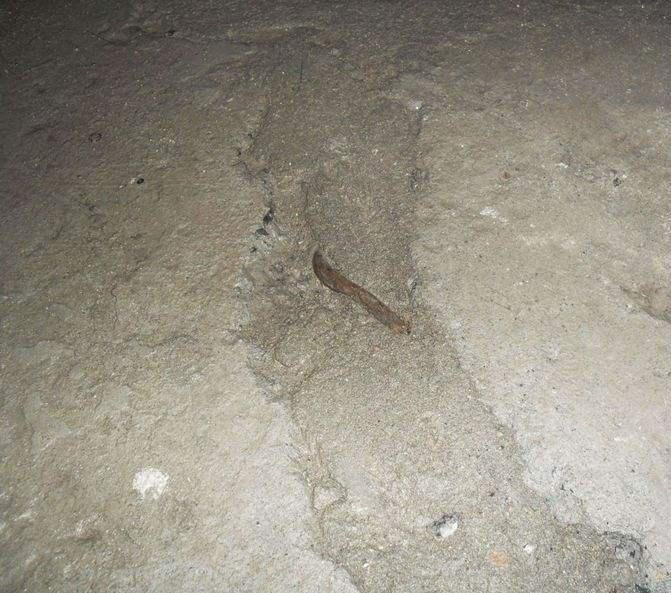Exposed reinforcement: (312, 249, 409, 332)
Spalling: (206, 22, 652, 593)
